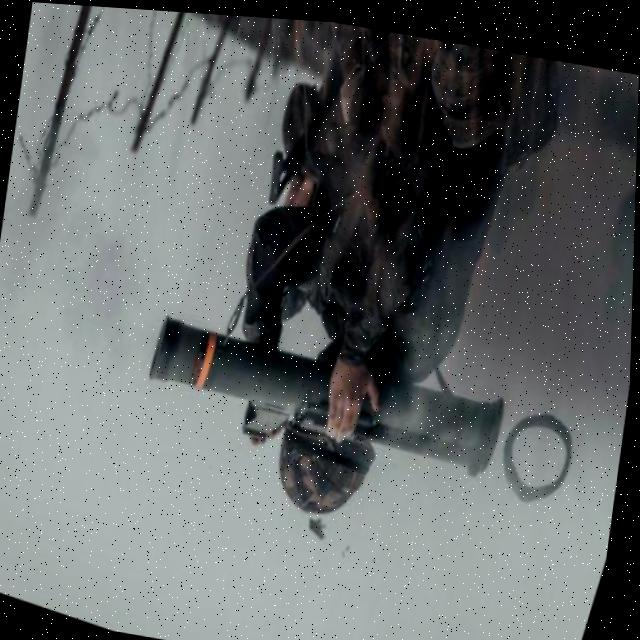rocket: (132, 280, 522, 505)
